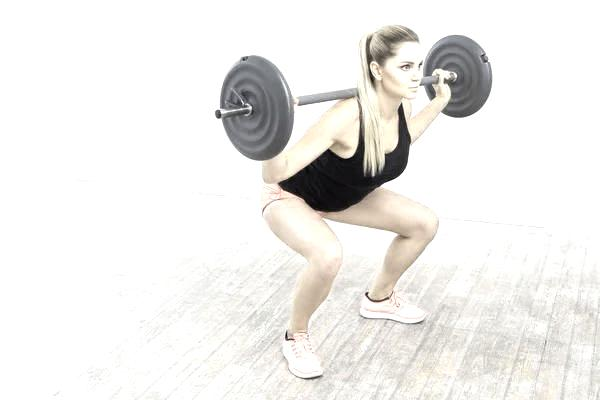Barbell: (214, 109, 224, 121)
